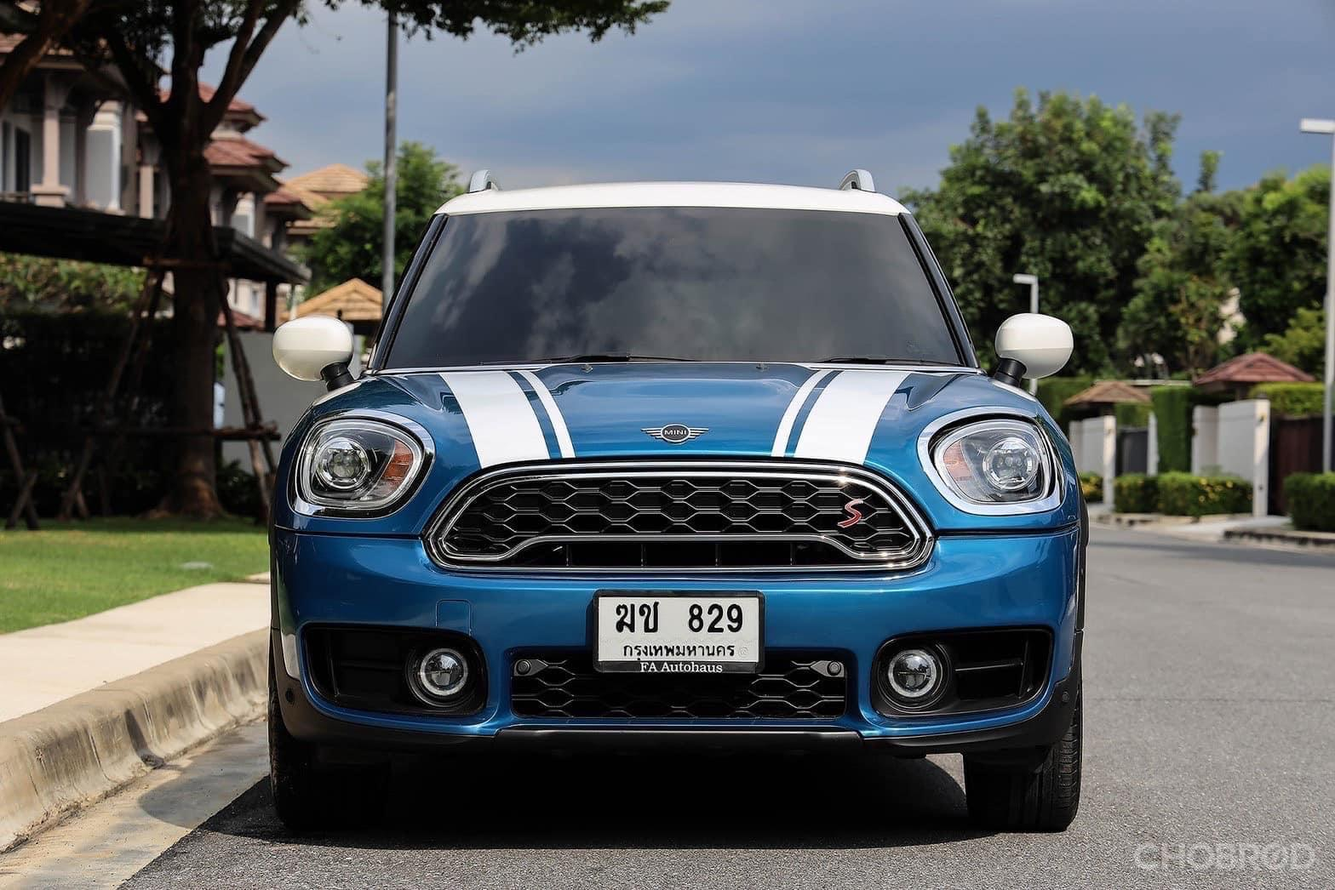license-plate: (592, 590, 766, 673)
